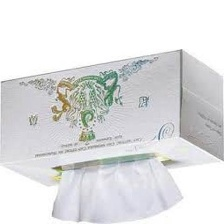book: (0, 47, 224, 189)
tissue: (48, 154, 186, 224)
